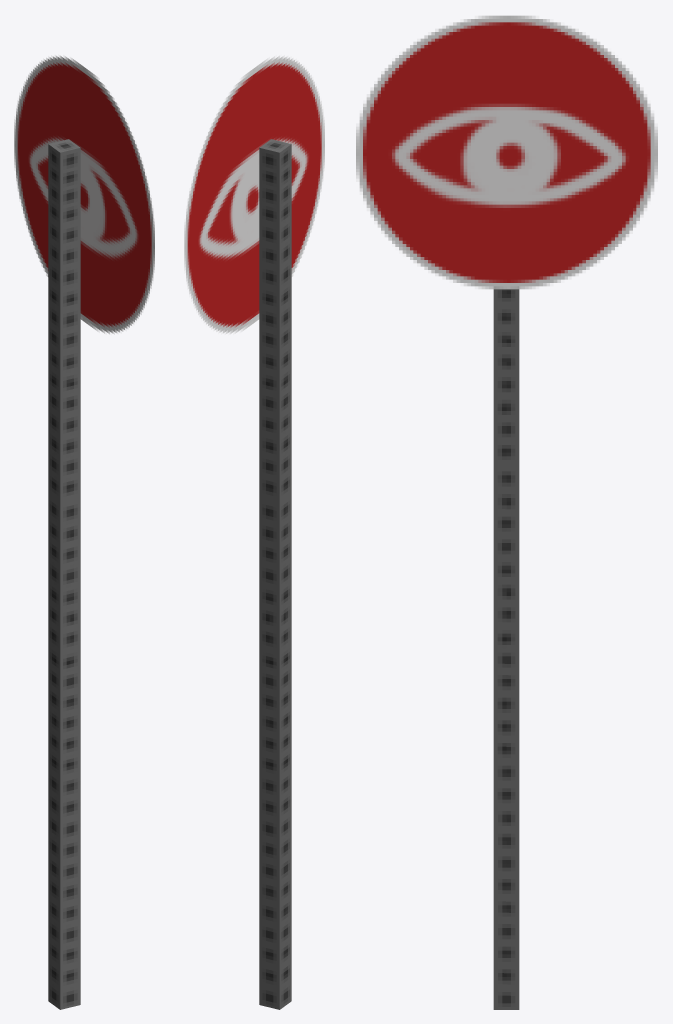
File: sign6.glb
3 views of the same model, side by side, from view 1: azimuth 30°, elevation 25°; view 2: azimuth 150°, elevation 25°; view 3: azimuth 270°, elevation 25° (orthographic). The views are drawn at different scales.
Parts seen in each view (by area): view 1: Cube.001, Plane.002; view 2: Cube.001, Plane.002; view 3: Plane.002, Cube.001.
Part boxes in pixels (left/top/right/bottom): Cube.001: left=48, top=139, right=80, bottom=1009; Plane.002: left=14, top=55, right=154, bottom=334; Cube.001: left=259, top=139, right=291, bottom=1009; Plane.002: left=184, top=55, right=324, bottom=333; Plane.002: left=356, top=15, right=657, bottom=289; Cube.001: left=493, top=287, right=519, bottom=1009.
Bounding box in the file's own units: 0.075 × 2.18 × 0.6.
Materials: 1 (1 with a texture image).
